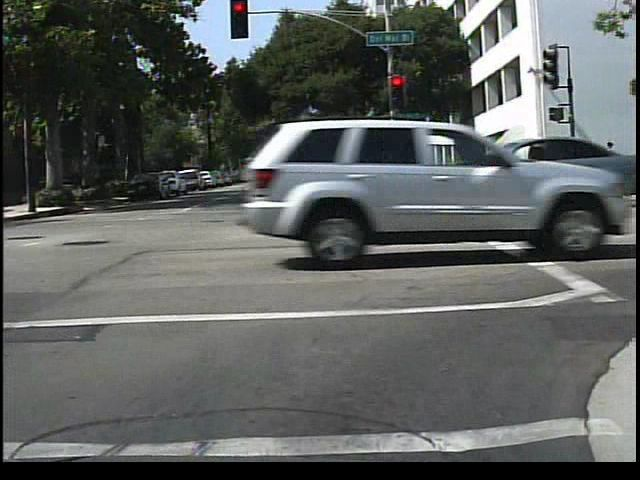person: (594, 133, 621, 198)
